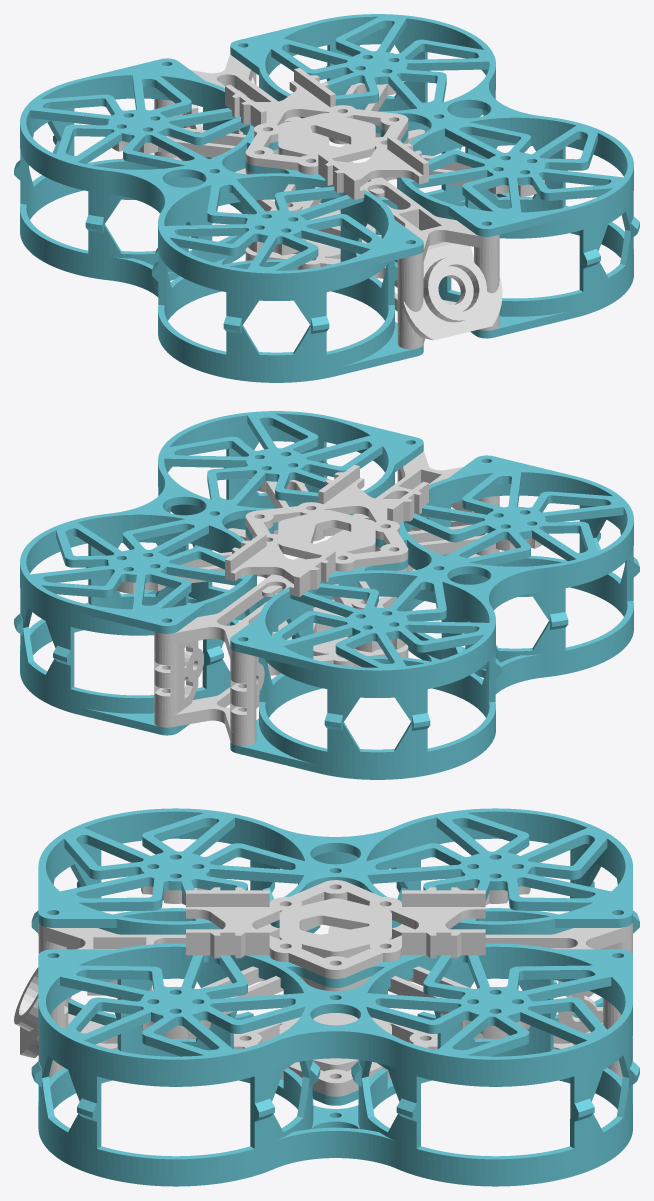
The model's file is bateleur.v0.2.5.glb.
3 renders of one model, top to bottom at view 1: azimuth 30°, elevation 25°; view 2: azimuth 150°, elevation 25°; view 3: azimuth 270°, elevation 25°, orthographic. The views are drawn at different scales.
Parts seen in each view (by area): view 1: Propguards-Topleft, Propguards-Topleft.001, Propguards-Bottomleft, Batteryplate, Propguards-Bottomleft.001, Antennamount, Coretop, Corebottom, Propeller; view 2: Propguards-Topleft, Propguards-Topleft.001, Propguards-Bottomleft, Batteryplate, Propguards-Bottomleft.001, Coretop, Corebottom, Camera Bracket.001, Camera Bracket, Antennamount; view 3: Propguards-Topleft.001, Propguards-Topleft, Propguards-Bottomleft.001, Batteryplate, Coretop, Corebottom, Propguards-Bottomleft, Antennamount, Camera Bracket.001.
Part boxes in pixels (x1,y1,x2,y2): Propguards-Topleft: (14, 58, 423, 333); Propguards-Topleft.001: (230, 14, 639, 268); Propguards-Bottomleft: (20, 140, 423, 382); Batteryplate: (225, 68, 428, 199); Propguards-Bottomleft.001: (320, 75, 633, 338); Antennamount: (397, 242, 502, 340); Coretop: (112, 53, 544, 267); Corebottom: (173, 157, 499, 349); Propeller: (235, 129, 424, 197); Propguards-Topleft: (230, 455, 639, 730); Propguards-Topleft.001: (14, 411, 423, 665); Propguards-Bottomleft: (230, 537, 633, 779); Batteryplate: (225, 465, 428, 596); Propguards-Bottomleft.001: (20, 472, 333, 735); Coretop: (109, 450, 541, 664); Corebottom: (154, 554, 480, 746); Camera Bracket.001: (154, 640, 203, 715); Camera Bracket: (230, 656, 264, 734); Antennamount: (397, 469, 499, 555); Propguards-Topleft.001: (31, 943, 639, 1121); Propguards-Topleft: (31, 808, 639, 984); Propguards-Bottomleft.001: (38, 1014, 632, 1186); Batteryplate: (186, 880, 485, 978); Coretop: (38, 886, 632, 1038); Corebottom: (38, 1013, 622, 1096); Propguards-Bottomleft: (68, 886, 632, 1035); Antennamount: (14, 937, 71, 1065); Camera Bracket.001: (558, 991, 632, 1065).
Bounding box in the file's own units: 119 × 33 × 125.
